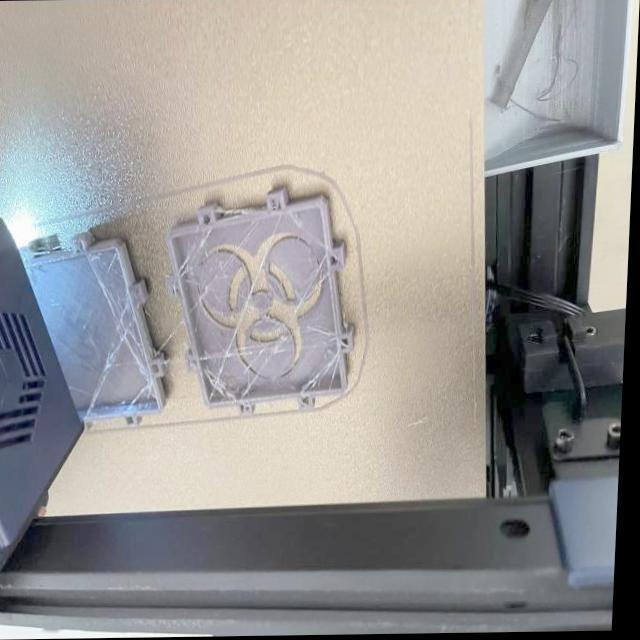stringing: (208, 213, 286, 406), (84, 256, 154, 393), (193, 221, 267, 319), (88, 301, 137, 416), (299, 349, 343, 394)
